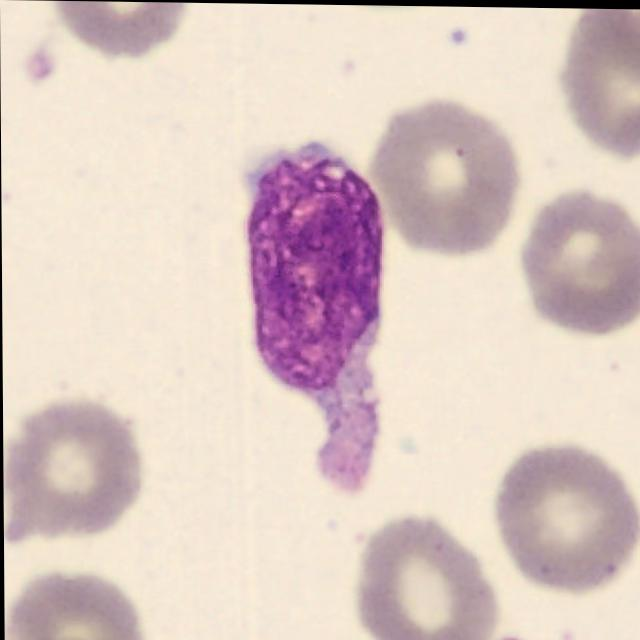Linfocito: (247, 140, 385, 491)
